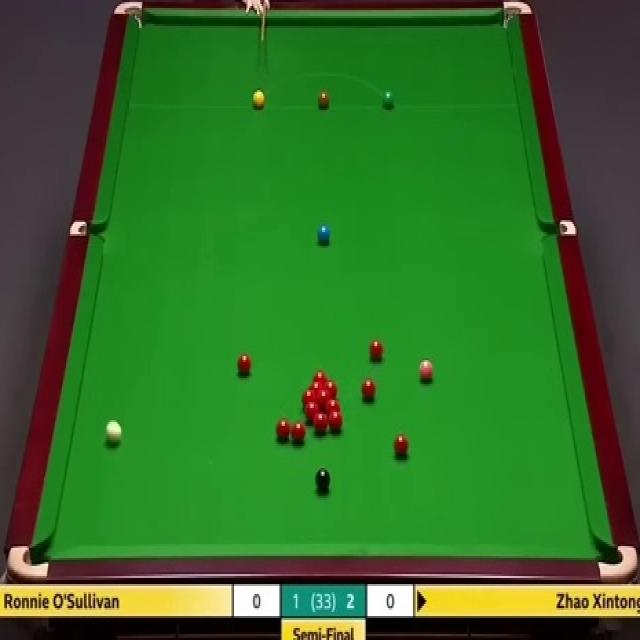black-ball: (315, 468, 331, 492)
blue-ball: (316, 223, 332, 246)
brown-ball: (318, 91, 330, 110)
green-ball: (382, 90, 394, 109)
pink-ball: (418, 358, 436, 382)
red-ball: (368, 338, 385, 362), (236, 353, 252, 377), (313, 411, 329, 434), (328, 409, 343, 433), (361, 378, 376, 402), (276, 418, 291, 441), (290, 422, 304, 444), (394, 435, 408, 456), (304, 402, 319, 421), (324, 399, 340, 413), (322, 381, 337, 394), (302, 389, 316, 402), (316, 390, 331, 402), (312, 370, 328, 381), (309, 381, 325, 390)
white-ball: (105, 421, 122, 448)
yellow-ball: (253, 88, 264, 110)
